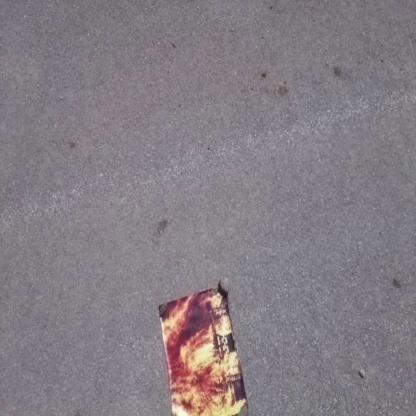fire-poster: (157, 279, 250, 415)
